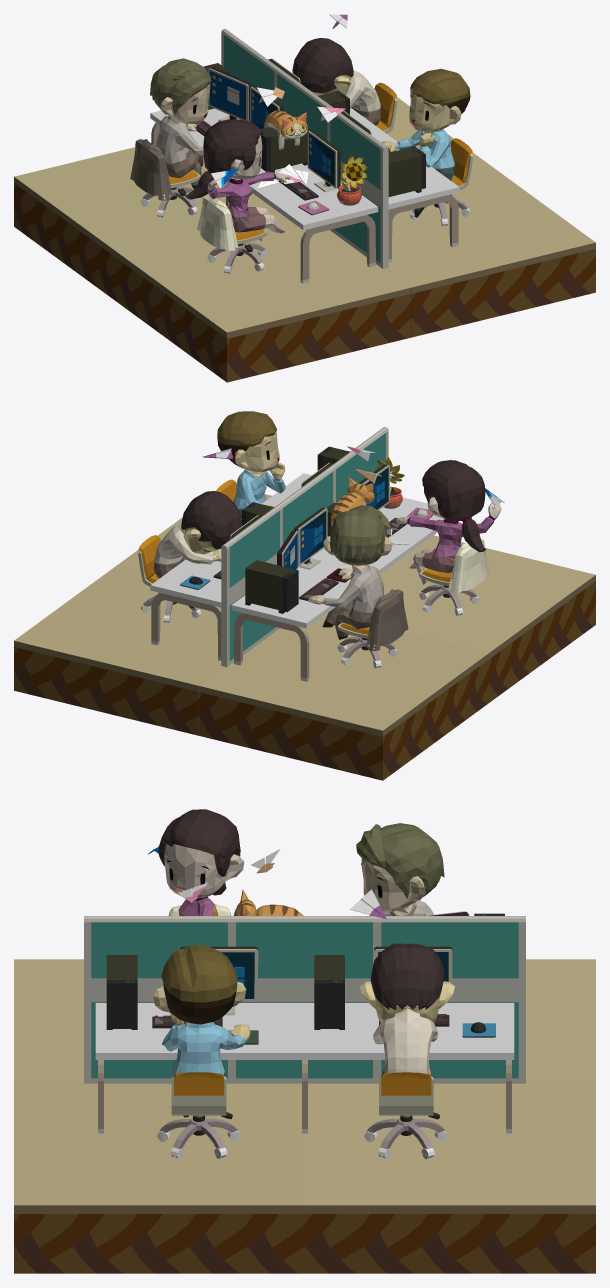
The model's file is 0088_yura_officeHours.fbx.
The picture shows the model from 3 angles, top to bottom: view 1: azimuth 30°, elevation 25°; view 2: azimuth 150°, elevation 25°; view 3: azimuth 270°, elevation 25°; orthographic projection. The views are drawn at different scales.
Visible parts, largest first — view 1: Floor01 (×4), Partition, Desk01 (×2), Yura_Head, Man01_Head, Man02_Head, Man03_Head, Desk02 (×2), Monitor01_1 (×2), Jacket02, Monitor02, Chair01 (×2) (+12 smaller); view 2: Floor01 (×3), Partition, Desk01 (×2), Yura_Head, Man01_Head, Man02_Head, Man03_Head, Desk02 (×2), Pc01, Monitor01_1 (×2), Jacket02, Jacket01 (+12 smaller); view 3: Floor01 (×4), Partition, Desk01, Man01_Head, Yura_Head, Man02_Head, Man03_Head, Chair01 (×2), Pc01_1 (×2), Man03_Body, Chair02 (×2), Man02_Body (+3 smaller).
Boxes of the visible parts, bbox=[...] form: Floor01 (×4): bbox=[14, 97, 595, 382]; Partition: bbox=[221, 28, 388, 268]; Desk01 (×2): bbox=[150, 108, 459, 230]; Yura_Head: bbox=[183, 119, 262, 199]; Man01_Head: bbox=[150, 58, 211, 123]; Man02_Head: bbox=[409, 68, 470, 131]; Man03_Head: bbox=[292, 38, 353, 95]; Desk02 (×2): bbox=[300, 194, 458, 283]; Monitor01_1 (×2): bbox=[250, 85, 340, 192]; Jacket02: bbox=[130, 139, 171, 200]; Monitor02: bbox=[208, 67, 251, 121]; Chair01 (×2): bbox=[374, 82, 473, 190]; Floor01 (×3): bbox=[14, 535, 595, 780]; Partition: bbox=[221, 427, 388, 667]; Desk01 (×2): bbox=[150, 473, 443, 628]; Yura_Head: bbox=[422, 460, 485, 552]; Man01_Head: bbox=[323, 505, 392, 565]; Man02_Head: bbox=[217, 411, 279, 472]; Man03_Head: bbox=[181, 491, 242, 554]; Desk02 (×2): bbox=[151, 593, 309, 681]; Pc01: bbox=[245, 560, 298, 613]; Monitor01_1 (×2): bbox=[294, 464, 389, 569]; Jacket02: bbox=[366, 589, 408, 650]; Jacket01: bbox=[448, 538, 489, 592]; Floor01 (×4): bbox=[14, 959, 595, 1273]; Partition: bbox=[84, 916, 525, 1083]; Desk01: bbox=[95, 1003, 514, 1059]; Man01_Head: bbox=[356, 823, 444, 911]; Yura_Head: bbox=[157, 809, 244, 898]; Man02_Head: bbox=[153, 944, 246, 1024]; Man03_Head: bbox=[360, 943, 454, 1022]; Chair01 (×2): bbox=[171, 1072, 439, 1119]; Pc01_1 (×2): bbox=[106, 955, 344, 1029]; Man03_Body: bbox=[383, 1008, 431, 1074]; Chair02 (×2): bbox=[160, 1115, 445, 1148]; Man02_Body: bbox=[172, 1022, 224, 1075].
Bounding box in the file's own units: 7.52 × 4.19 × 7.52.
